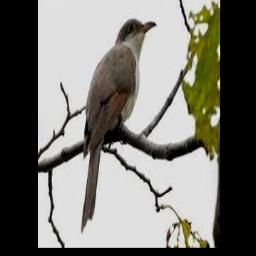Cuckoo: (81, 18, 157, 232)
